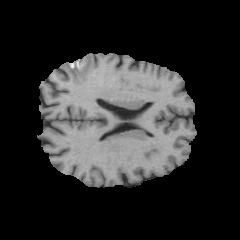glioma: (61, 54, 96, 86)
